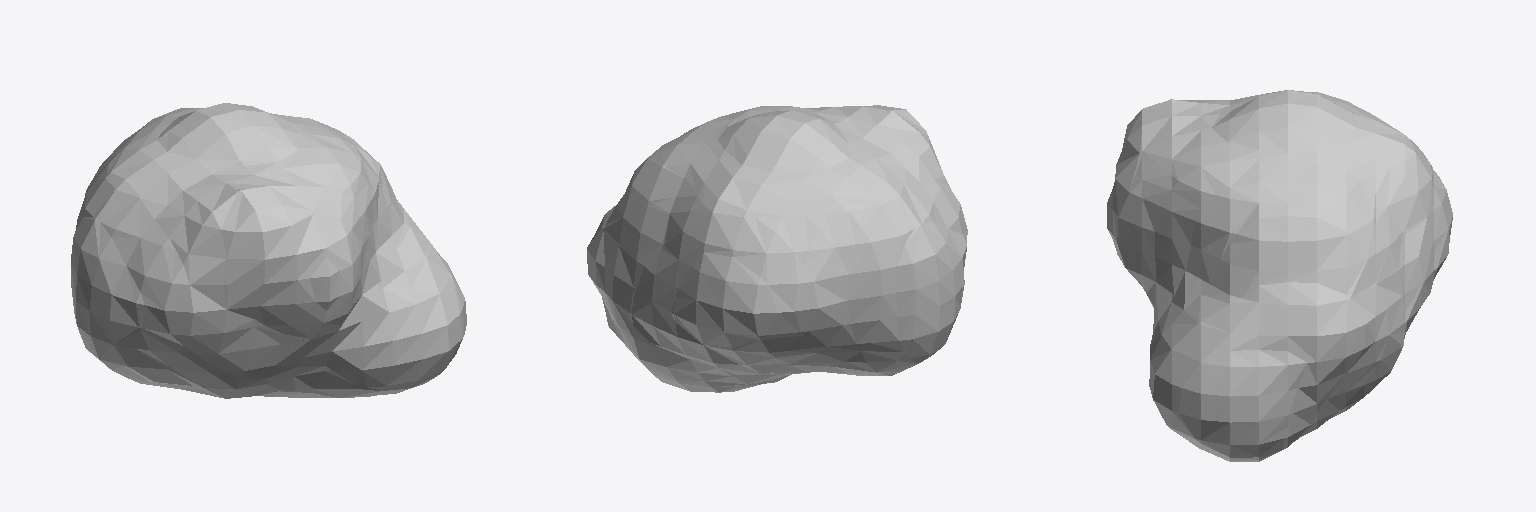
Rendered from 1rtt_cms.obj.
3 views of the same model, side by side, from view 1: azimuth 30°, elevation 25°; view 2: azimuth 150°, elevation 25°; view 3: azimuth 270°, elevation 25° (orthographic).
Size of the model in its own units: 58.38 by 46.17 by 49.53.